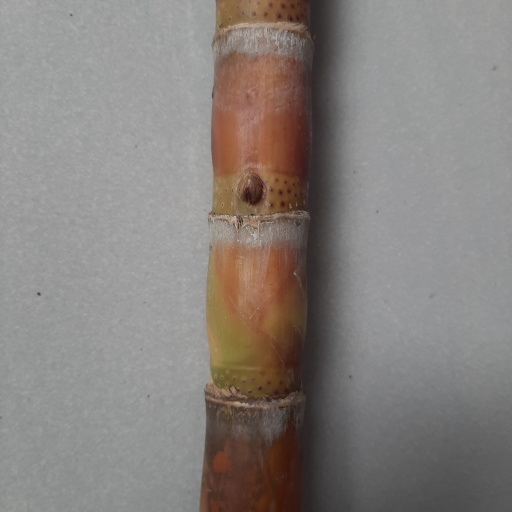Bud: (236, 170, 265, 206)
